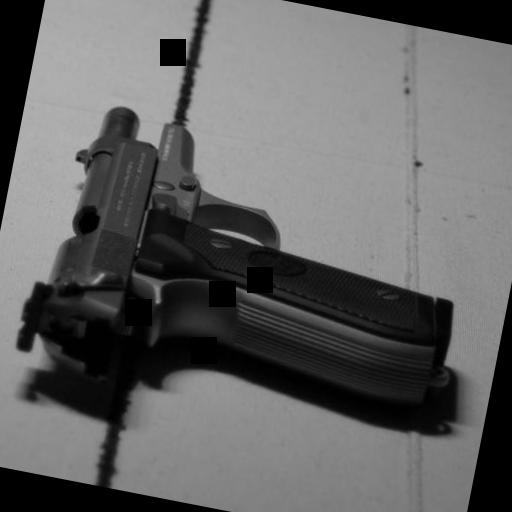Handgun: (6, 88, 490, 444)
